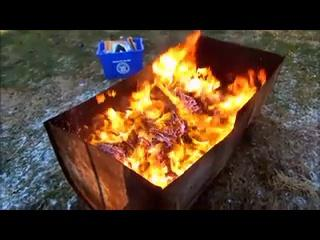fire: (97, 32, 266, 192)
